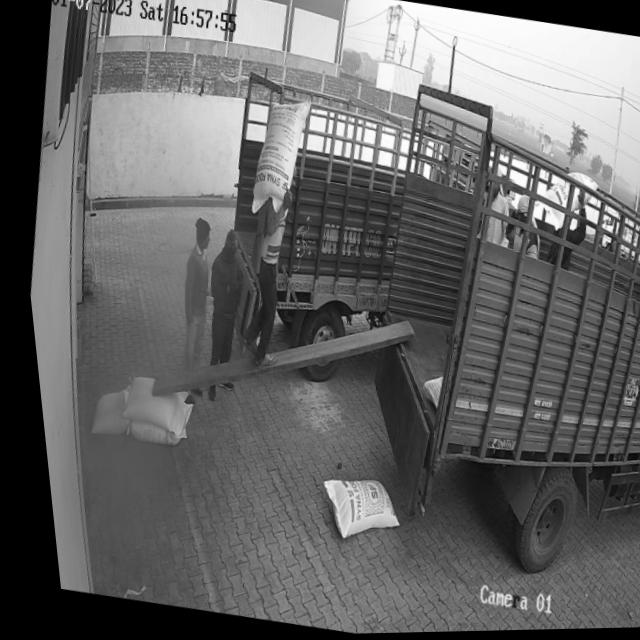sack: (237, 94, 317, 219), (303, 471, 396, 549), (108, 372, 185, 434), (113, 392, 186, 449), (76, 383, 127, 439)
